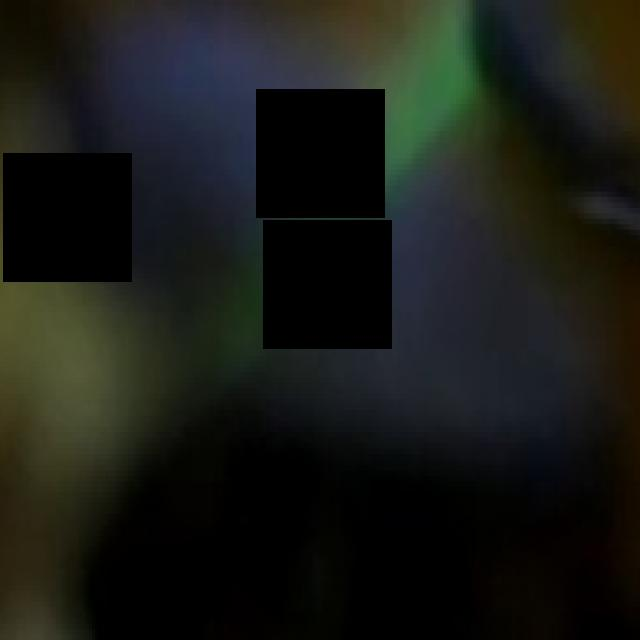fish: (3, 5, 640, 640)
